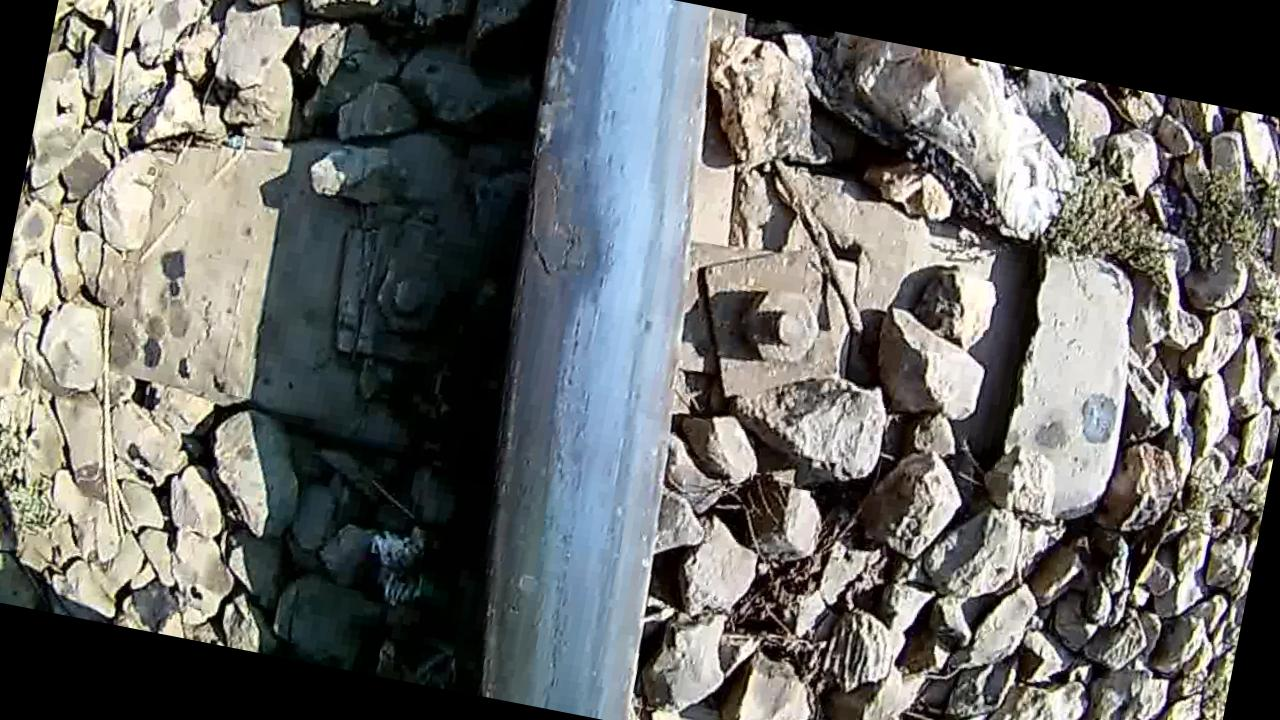crack: (501, 126, 684, 316)
